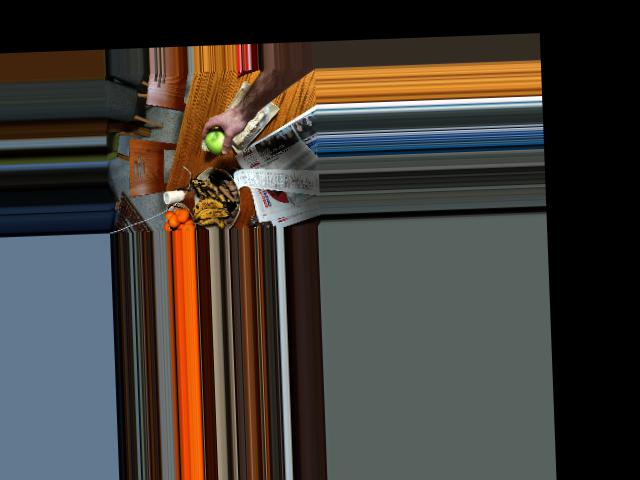apple: (203, 121, 229, 153)
